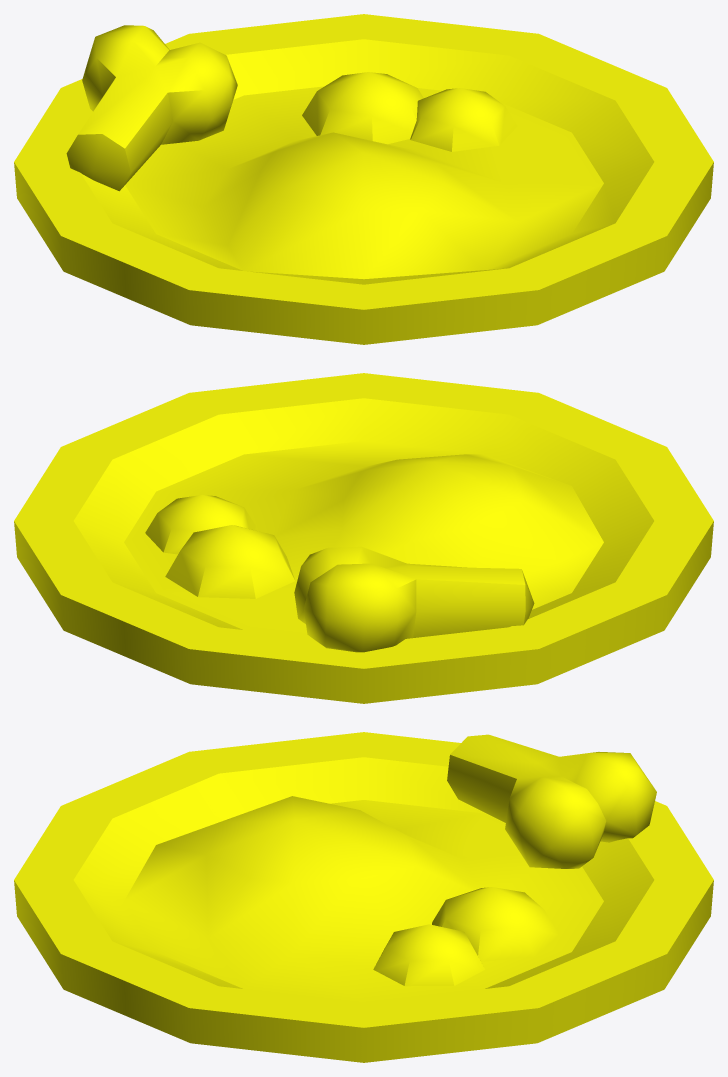
File: kaykit-plate-food-b.glb
3 renders of one model, top to bottom at view 1: azimuth 30°, elevation 25°; view 2: azimuth 150°, elevation 25°; view 3: azimuth 270°, elevation 25°, orthographic.
Parts seen in each view (by area): view 1: plate_food_B; view 2: plate_food_B; view 3: plate_food_B.
Boxes of the visible parts, <box> form: plate_food_B: <box>14,14,713,344</box>; plate_food_B: <box>14,373,713,703</box>; plate_food_B: <box>14,732,713,1062</box>.
Bounding box in the file's own units: 0.9706 × 0.2361 × 0.9706.
